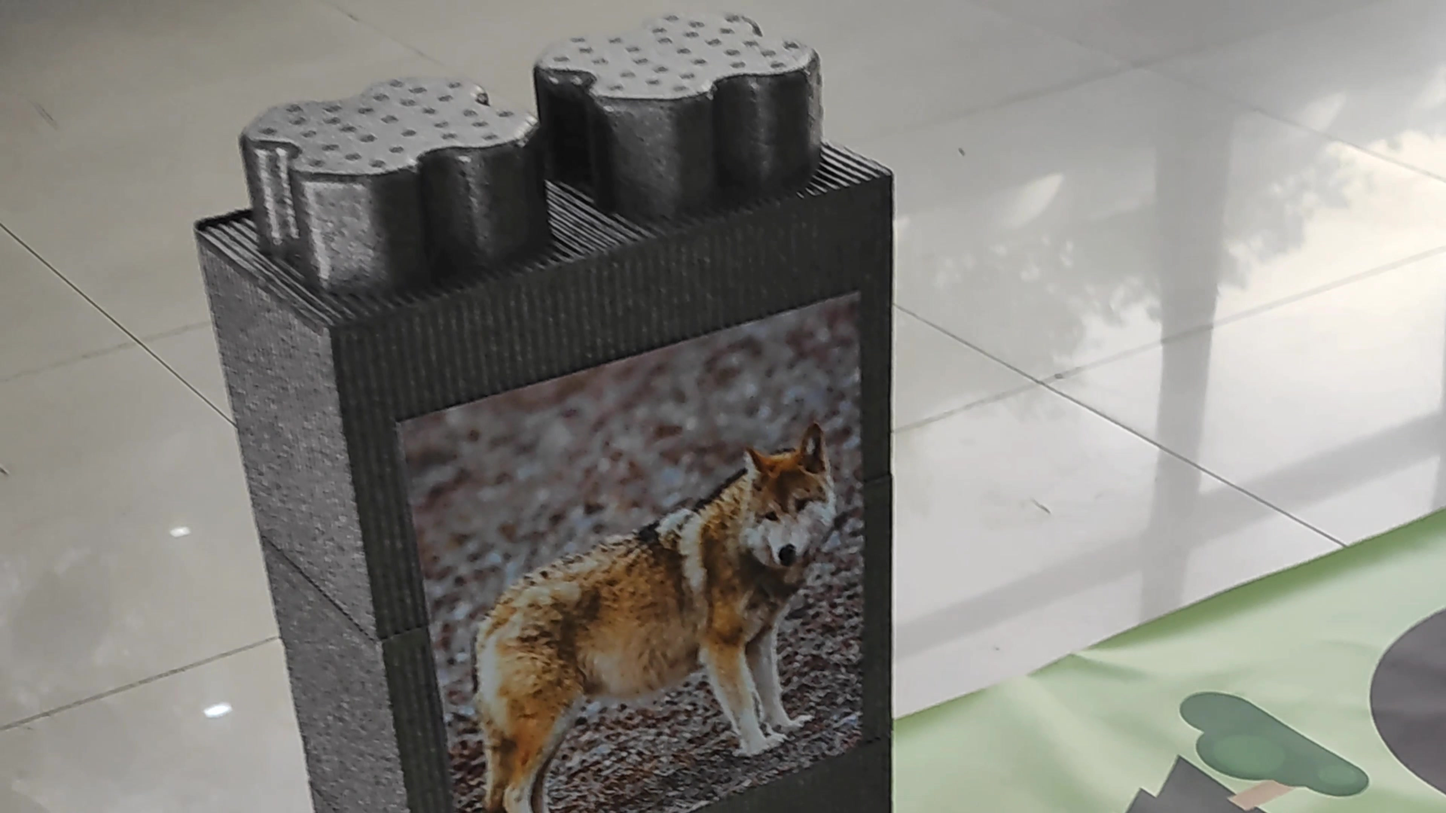wolf: (402, 422, 883, 813)
